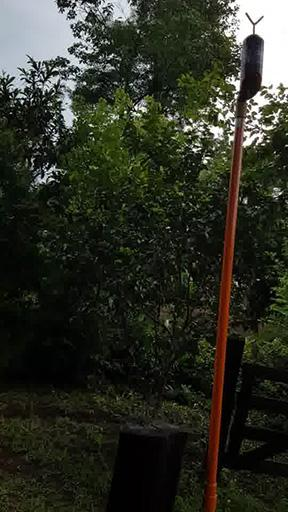Detector_Tensao_Contato: (235, 12, 266, 103)
Vara_Manobra: (204, 100, 249, 512)
